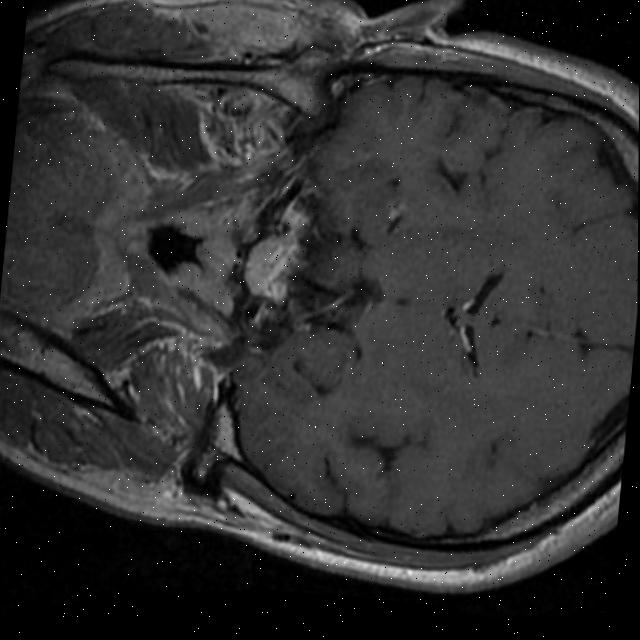Pituitary: (242, 223, 307, 309)
